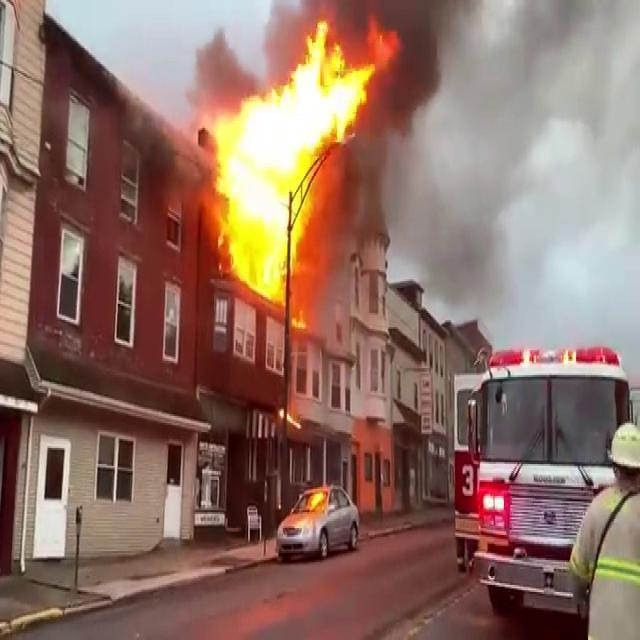Fire: (198, 8, 374, 305)
Smoke: (364, 0, 640, 306)
